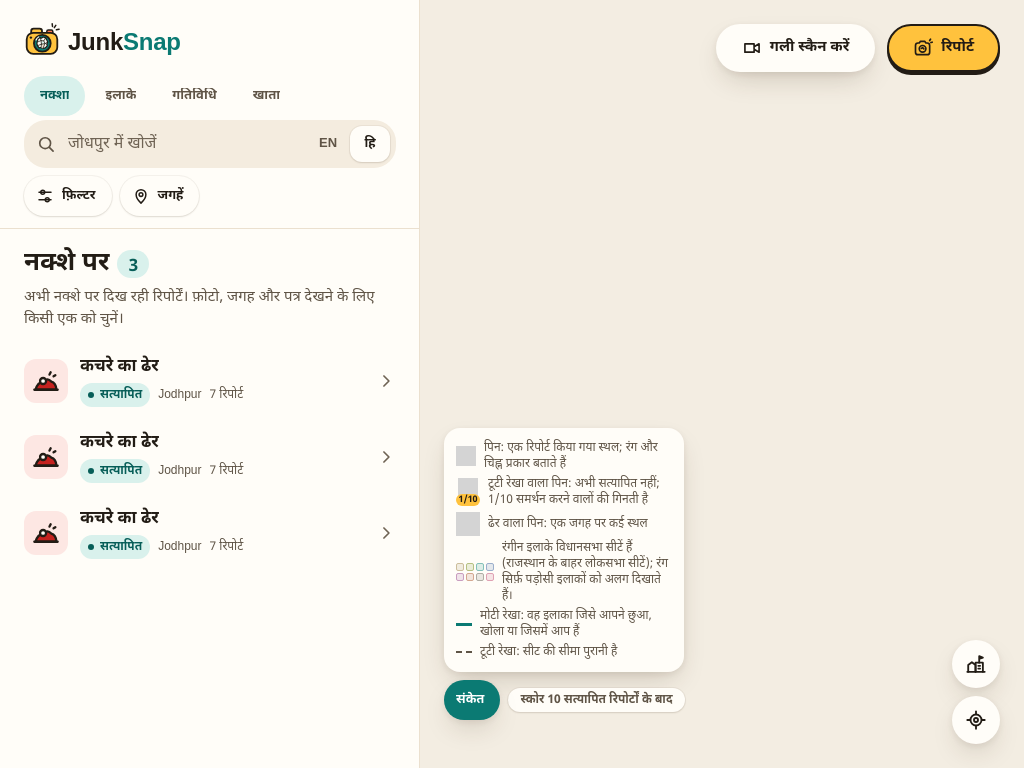
it: Places with reports in Hindi › names the button, the list and its counts in Hindi; area names stay as the data has them
Click the button with aria-label "रिपोर्ट वाली जगहें" at (160, 196), box [120,176,200,216]
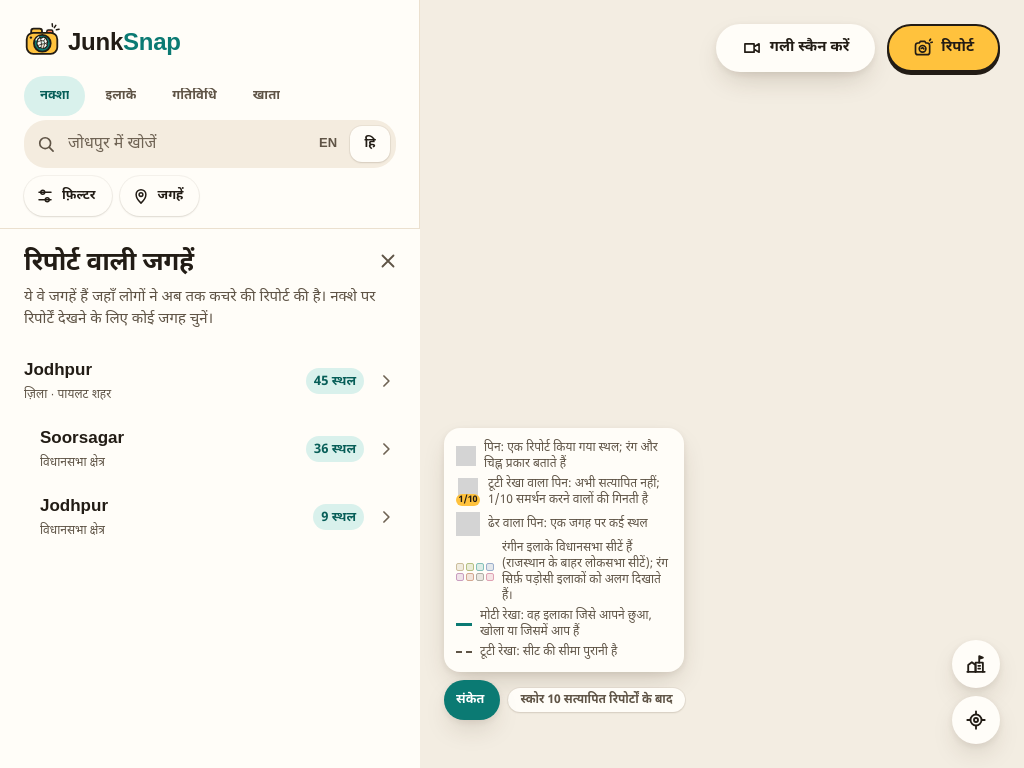
Expected: the list named "जगहें और उनके स्थलों की गिनती" is shown, [16,347,404,551]
